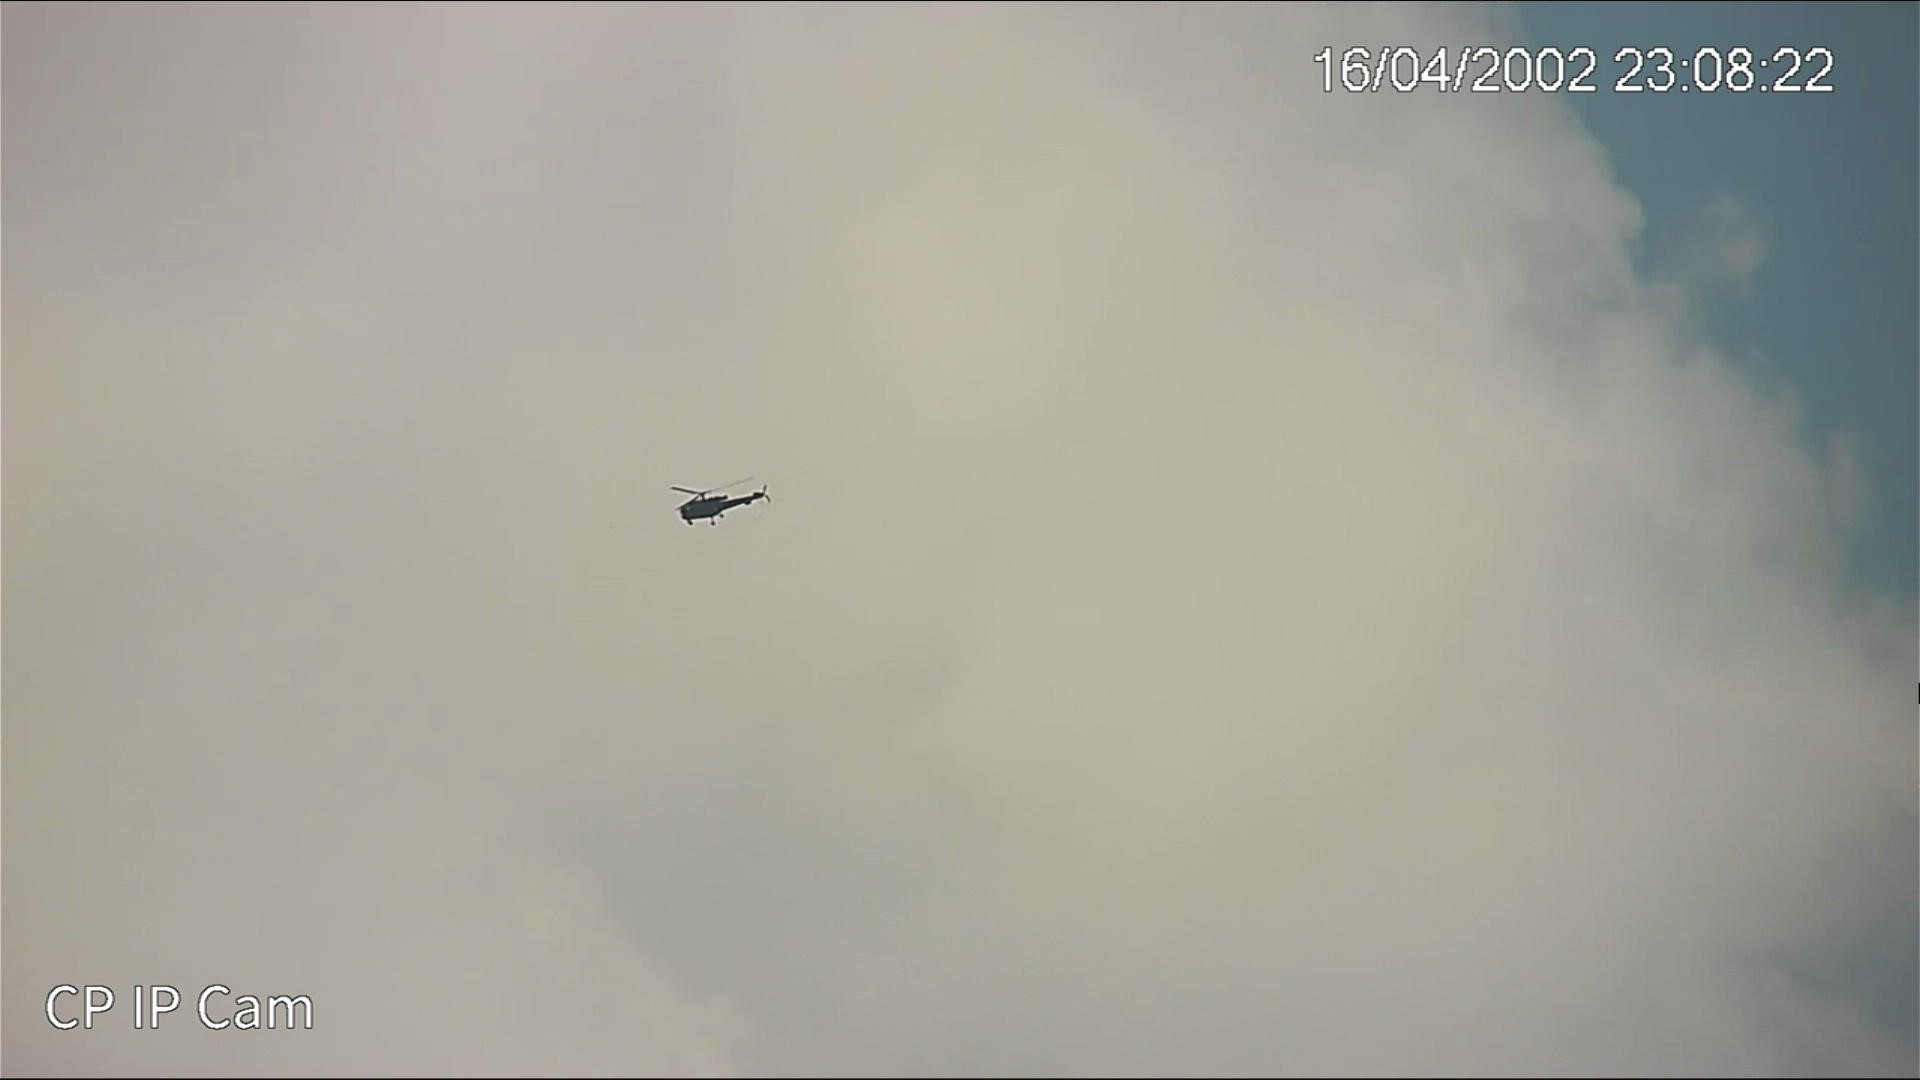SU_30: (670, 477, 773, 527)
